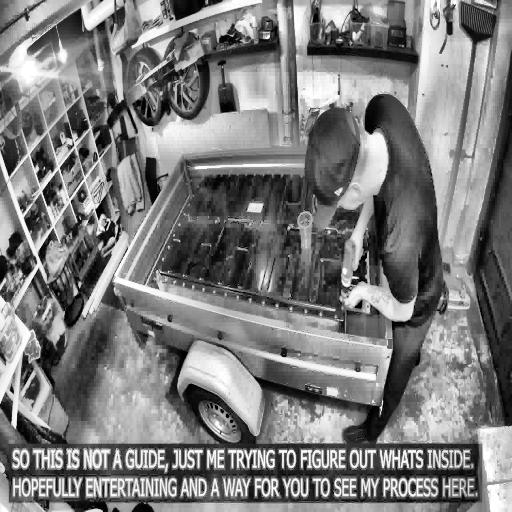b_casing: (153, 174, 370, 320)
